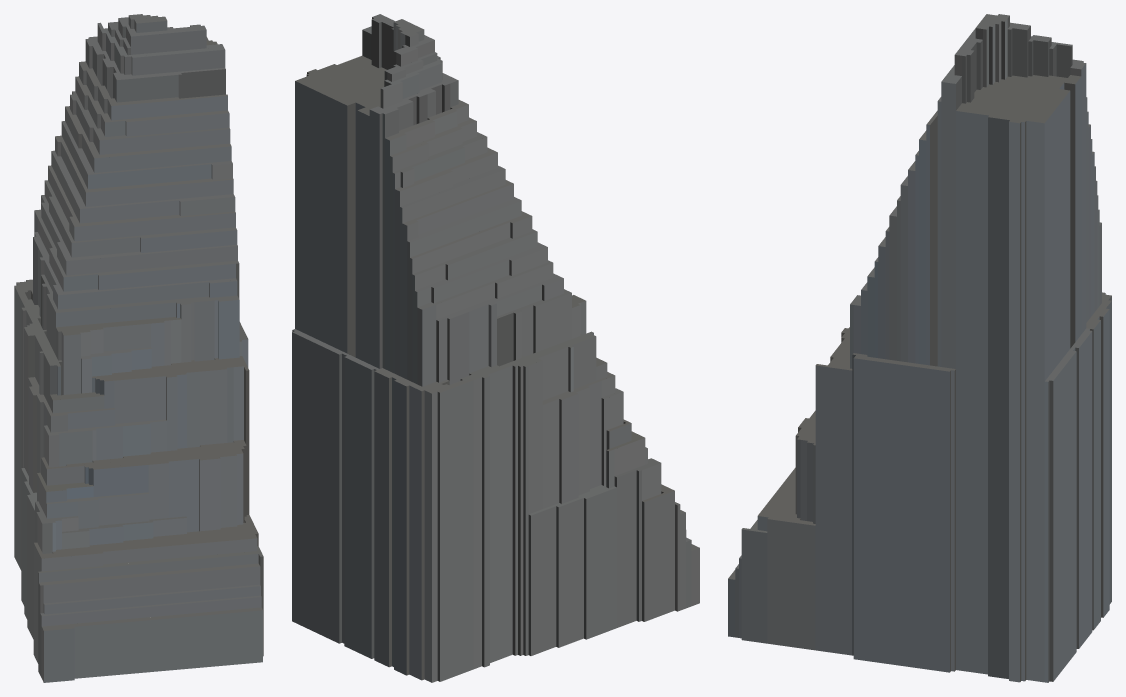
File: t_-5_9.far.glb
The picture shows the model from 3 angles, left to right: view 1: azimuth 30°, elevation 25°; view 2: azimuth 150°, elevation 25°; view 3: azimuth 270°, elevation 25°; orthographic projection. The views are drawn at different scales.
Parts seen in each view (by area): view 1: opaque; view 2: opaque; view 3: opaque.
Part boxes in pixels (x1,y1,x2,y2): opaque: (14, 14, 263, 682); opaque: (292, 14, 699, 682); opaque: (728, 14, 1111, 682).
Bounding box in the file's own units: 89.34 × 175 × 98.61.
1 material, 1 textured.
